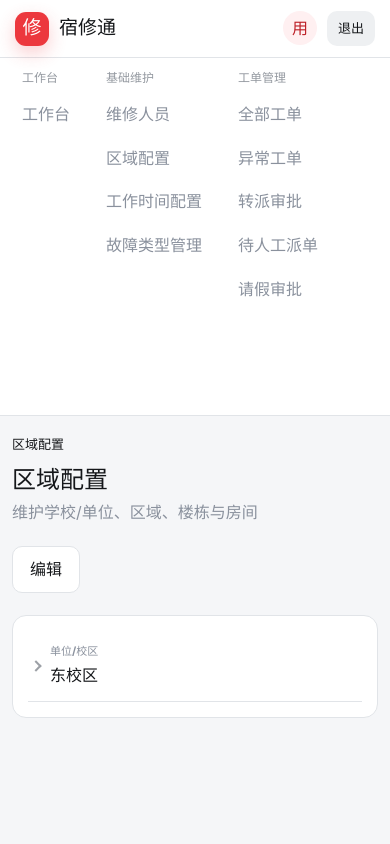
Test: 区域配置页 › 浏览态隐藏增删按钮与根节点按钮，点击编辑后显示
Click the button "编辑". click: (46, 570)
box: [12,546,80,594]
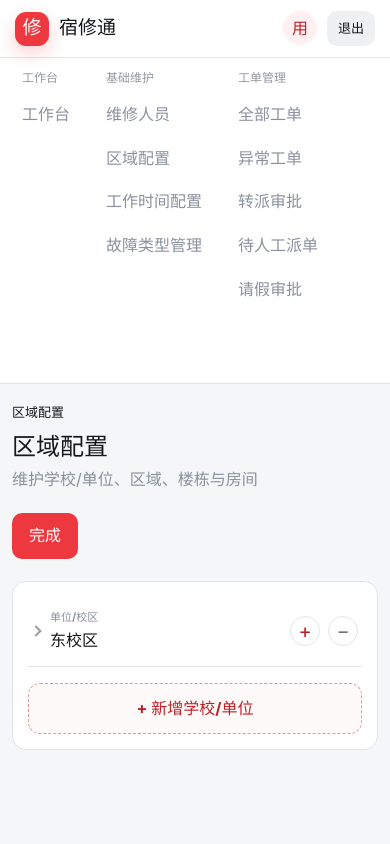
Check: the button "完成" is shown
Click the button "完成". click: (45, 536)
box: [12,513,78,559]
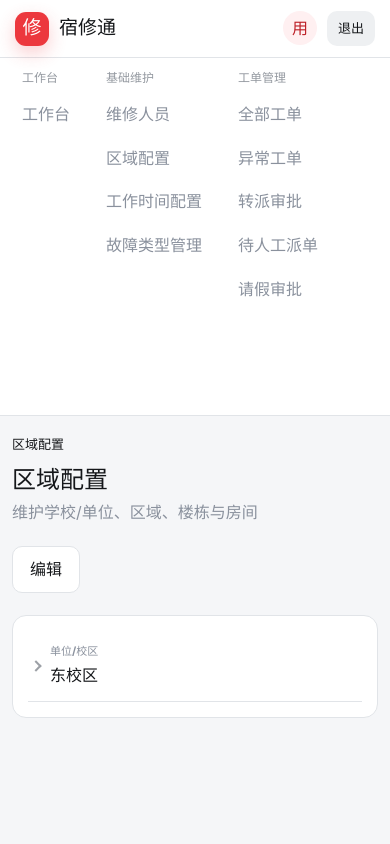
Check: the button "编辑" is shown, box [12,546,80,594]
